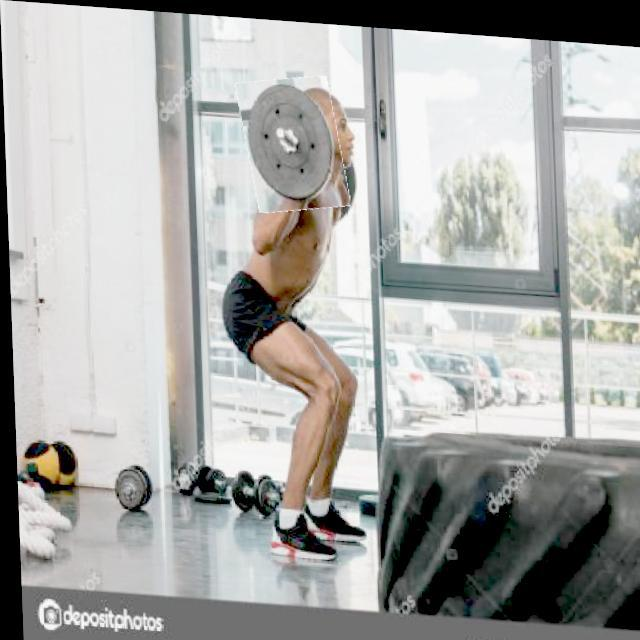barbell: (240, 70, 346, 212)
